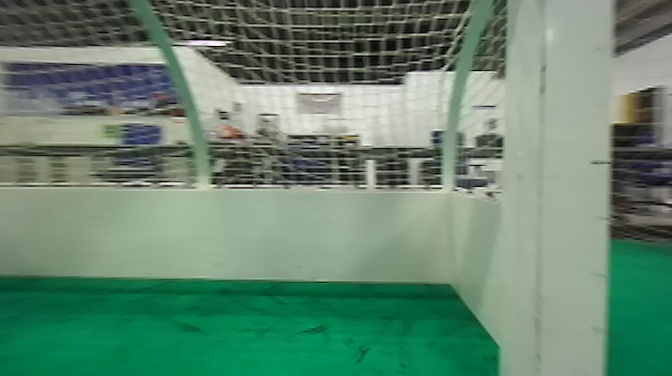goalpost: (506, 1, 614, 376)
